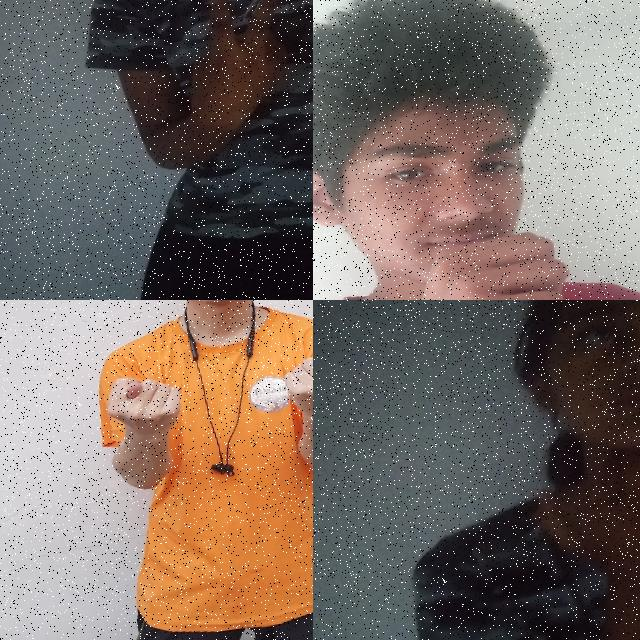Chin Flick: (481, 300, 640, 621)
Dulya: (95, 356, 198, 470), (275, 335, 313, 435)
Fist Mouth: (313, 0, 600, 300)
Reversed Victory: (171, 0, 309, 155)
